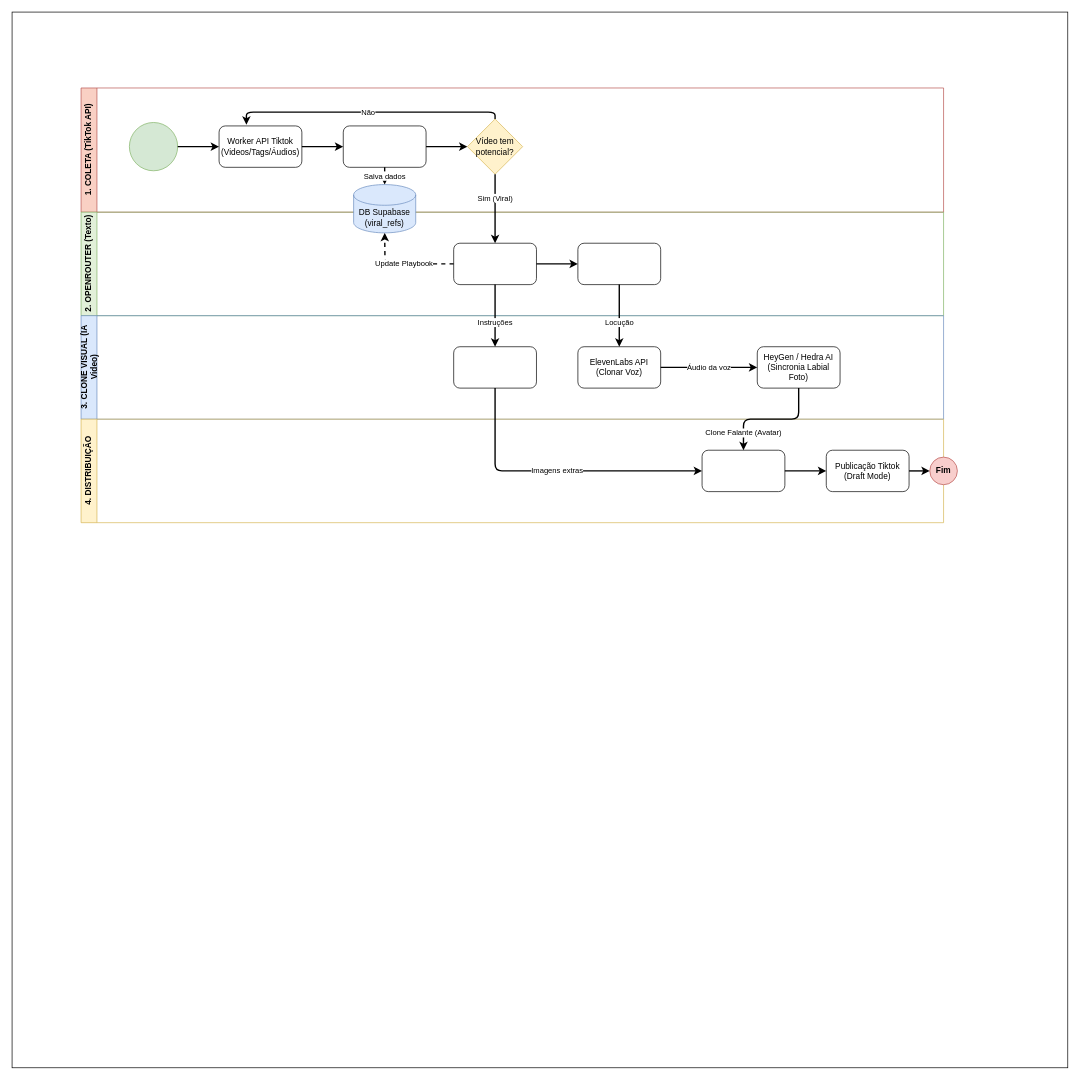
Some shapes in this 1080 by 1080 pixel diagram are drawn without their labels. The centre of each missing label's shape, as x and y in pixels:
Gerar Prompts de Imagem: (x=619, y=264)
Images B-Rolls (Flux/IA Aberta): (x=494, y=367)
Início (Scheduler): (x=153, y=146)
Montagem de Cenas (Sincronizar Mídia): (x=743, y=471)
OpenRouter (Roteiro Hook+Copy): (x=494, y=264)
Transcrever Bruto: (x=384, y=146)
